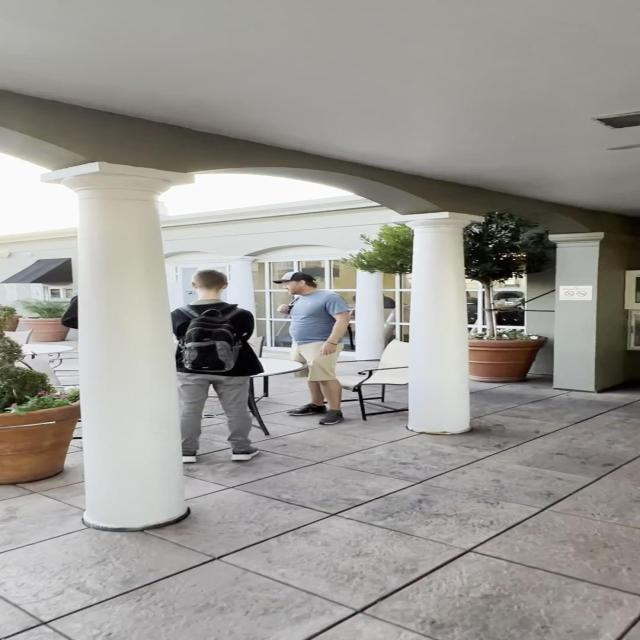NO-Mask: (281, 280, 305, 294)
